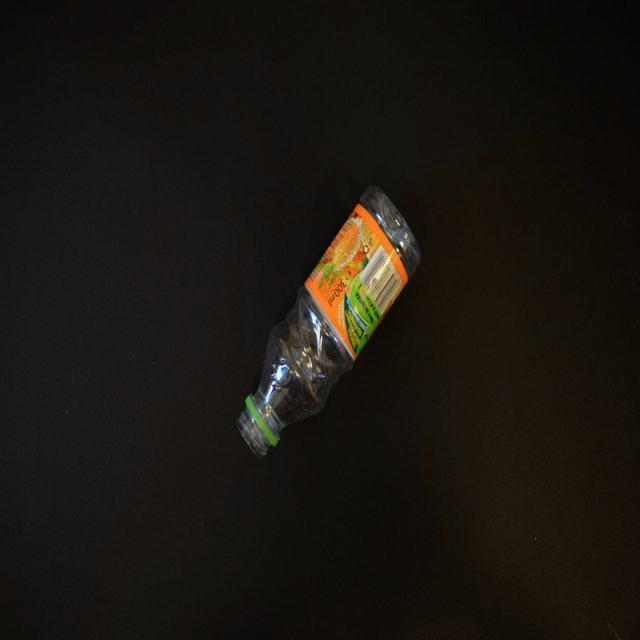bottle: (235, 185, 421, 460)
